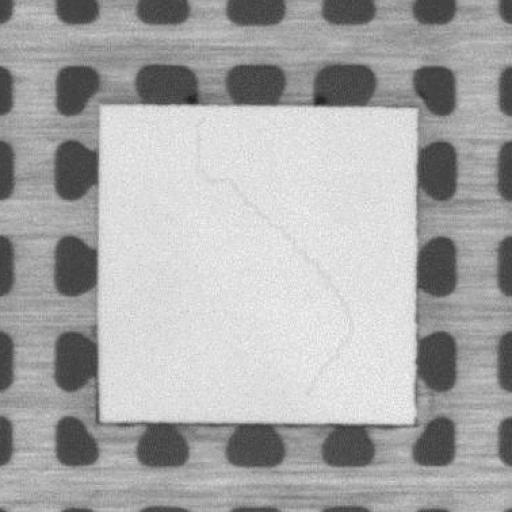DIE_CRACK: (190, 115, 352, 396)
